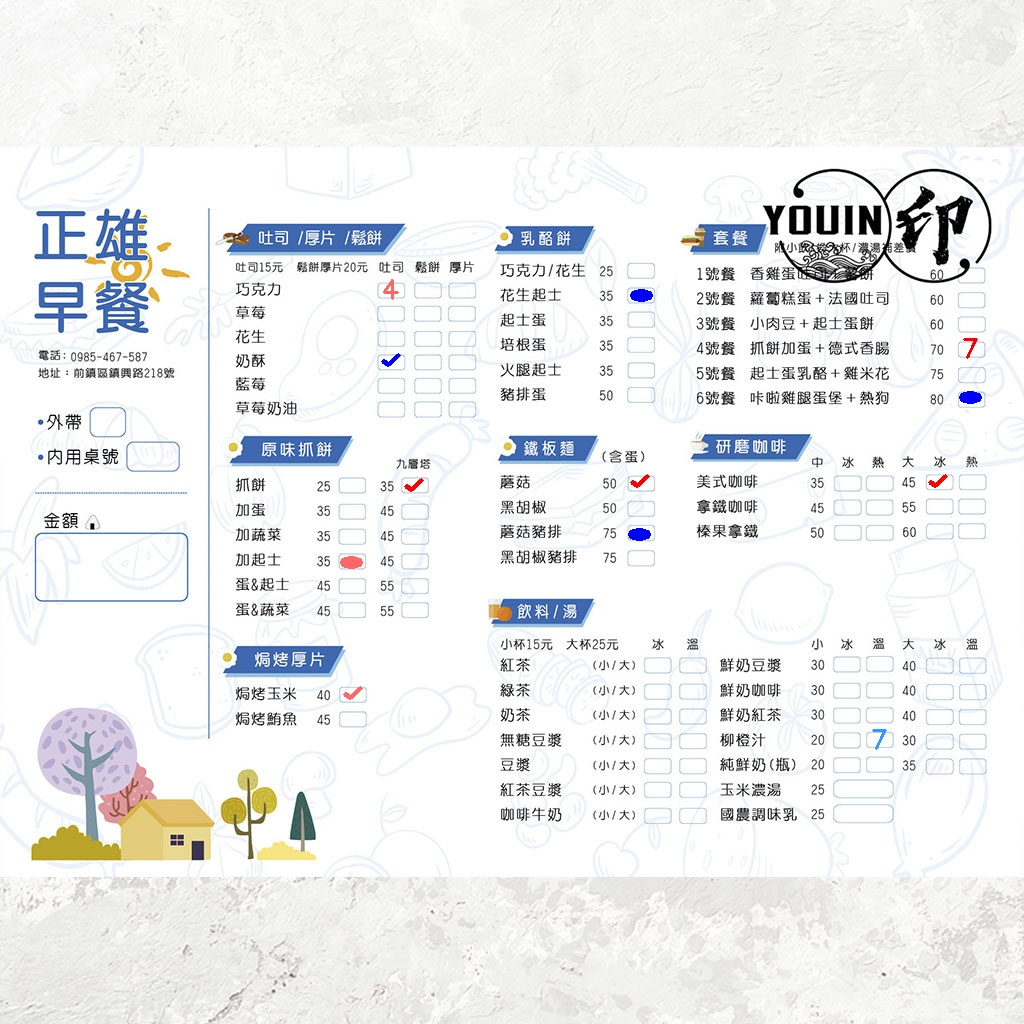marked_circle: (337, 554, 363, 568), (628, 288, 654, 302), (625, 526, 651, 540), (958, 391, 984, 405)
marked_number_4: (377, 282, 403, 296)
marked_number_7: (957, 341, 983, 355), (866, 732, 892, 746)
marked_tick: (925, 474, 951, 488), (401, 478, 427, 492), (340, 686, 366, 700), (378, 353, 404, 367), (627, 474, 653, 488)
